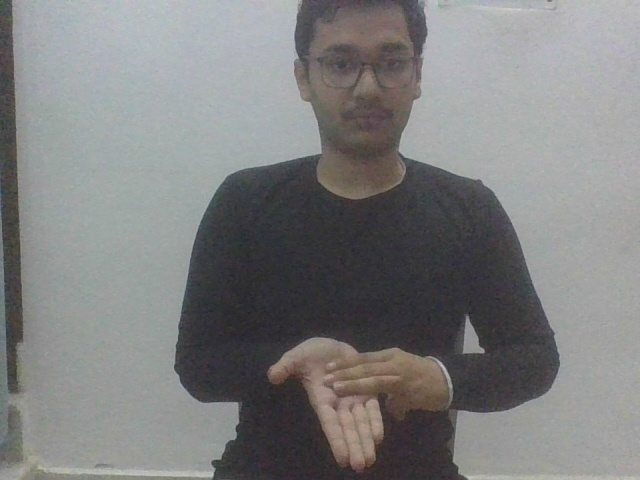M: (266, 332, 455, 474)
